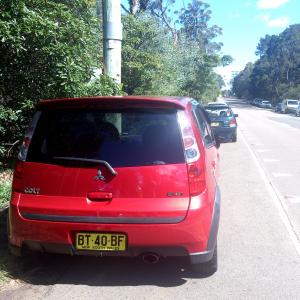Vehicle-registration-plate: (75, 234, 128, 254)
